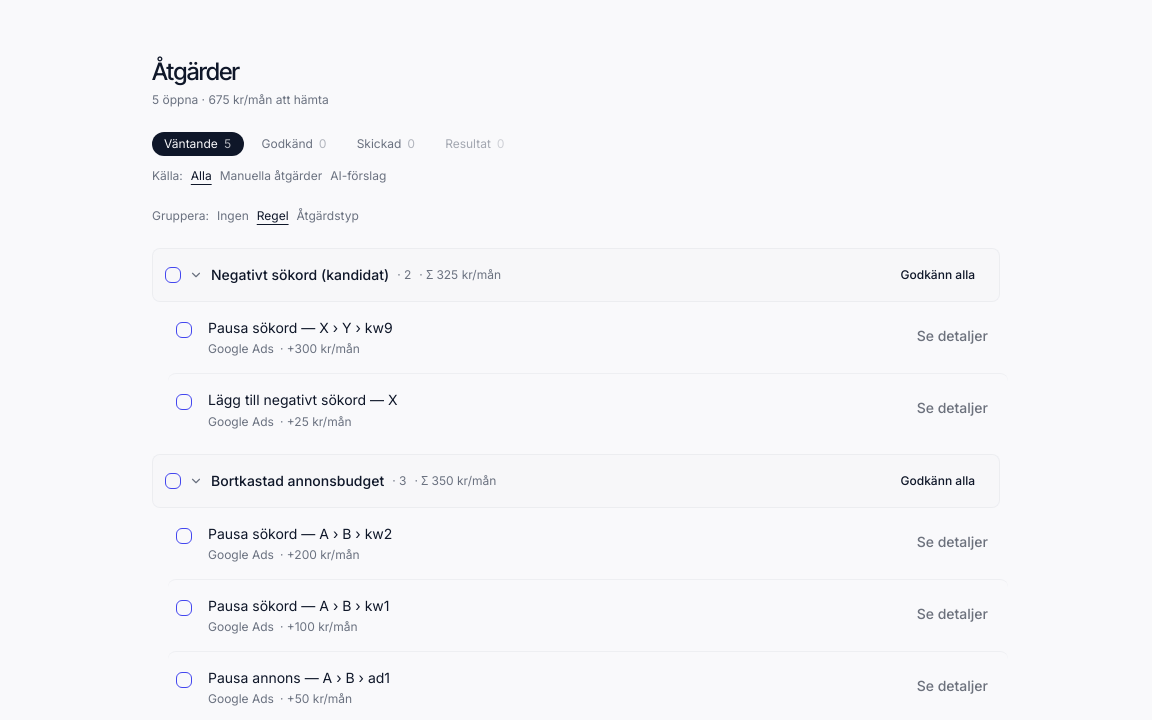
Test case: ActionsPipeline grouping + bulk actions › selecting a group toggles its rows and shows bulk bar with summed impact
The image size is (1152, 720).
Click the 2nd checkbox named "Välj grupp": (173, 480) [165,472,181,488]
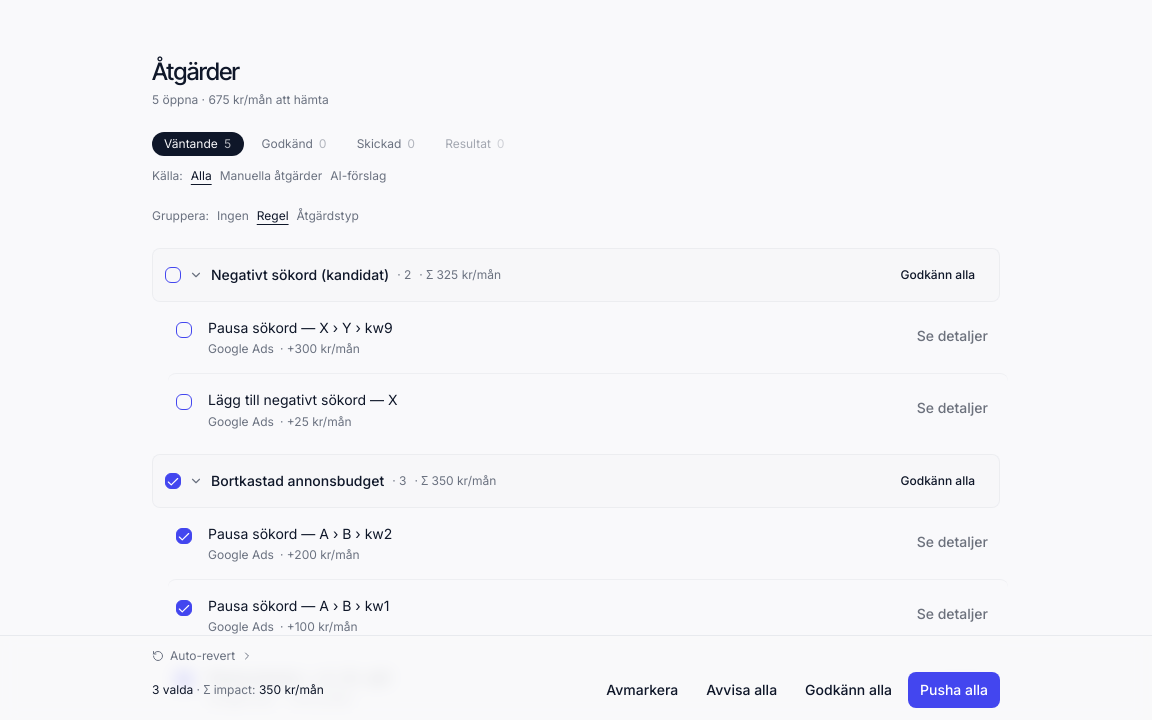
Now the text "3 valda" is shown, box [152,682,193,697]
Now the text "350 kr/mån" is shown, box [259,682,324,697]
